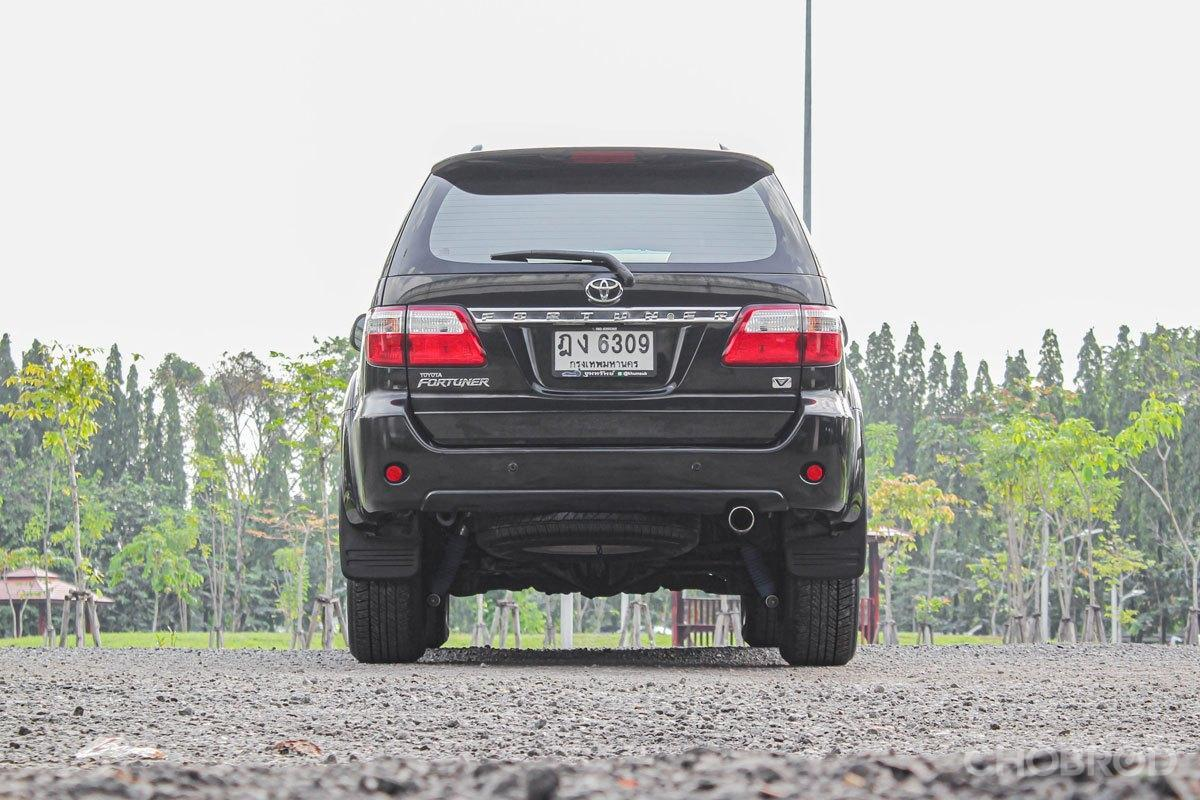license-plate: (555, 329, 656, 376)
